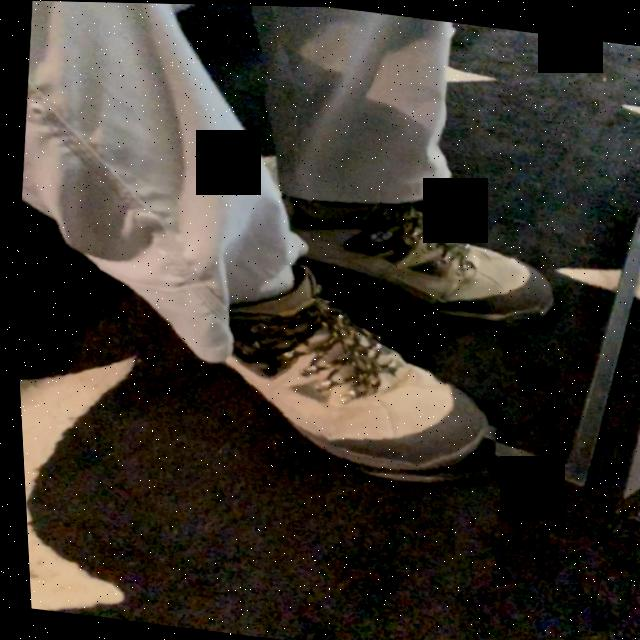shoe: (222, 265, 492, 476), (308, 196, 540, 314)
